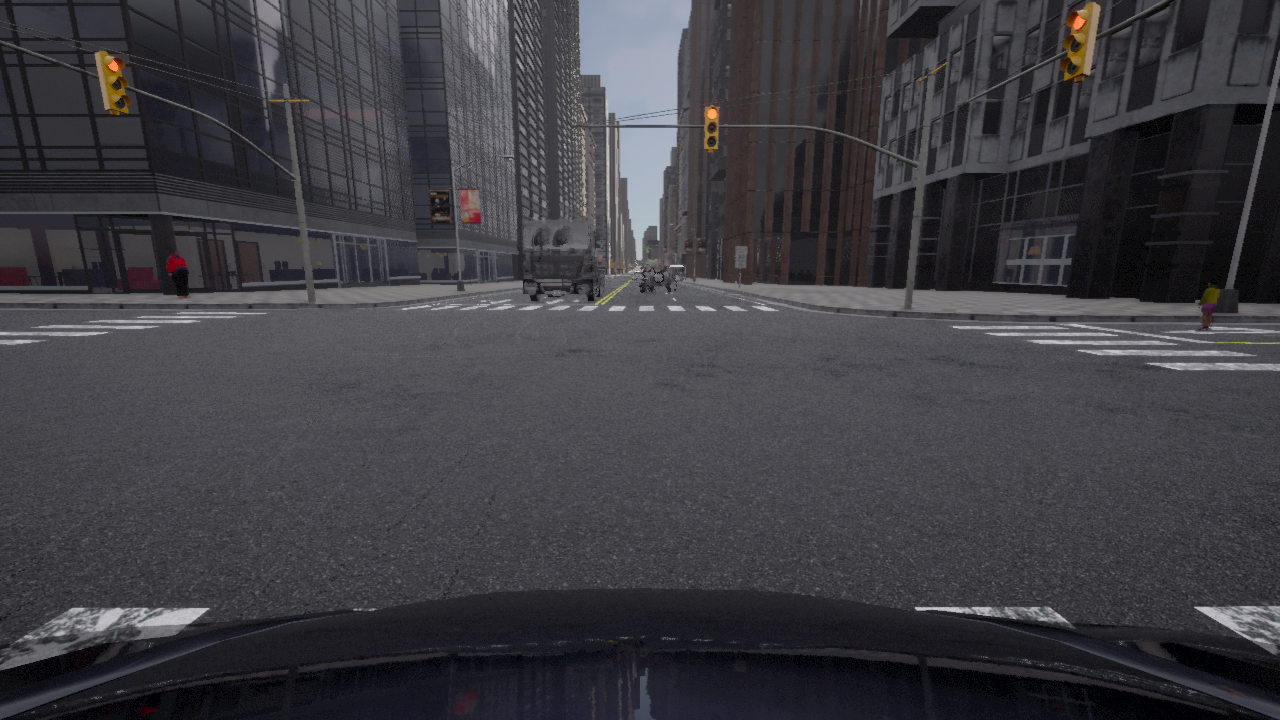cyclist: (0, 588, 1279, 719), (516, 219, 604, 301), (640, 263, 678, 292), (668, 264, 686, 287), (633, 273, 642, 281)
pedestrian: (166, 250, 190, 298), (1197, 278, 1219, 330)
